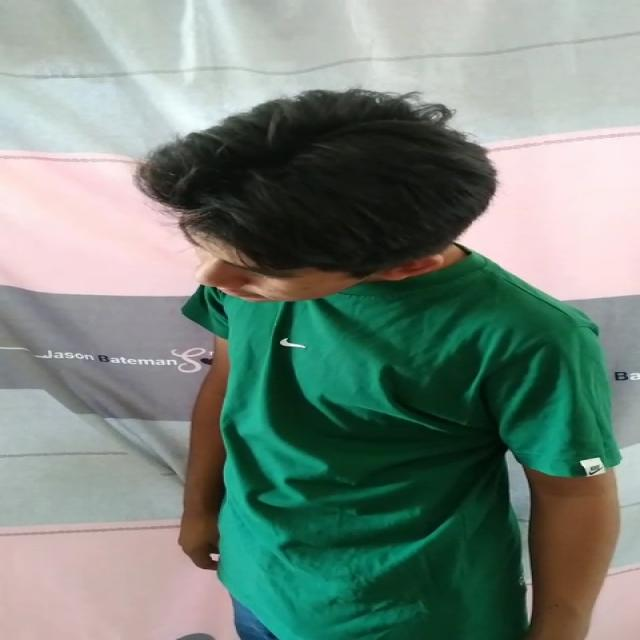9_cabeza_baja: (136, 86, 500, 304)
